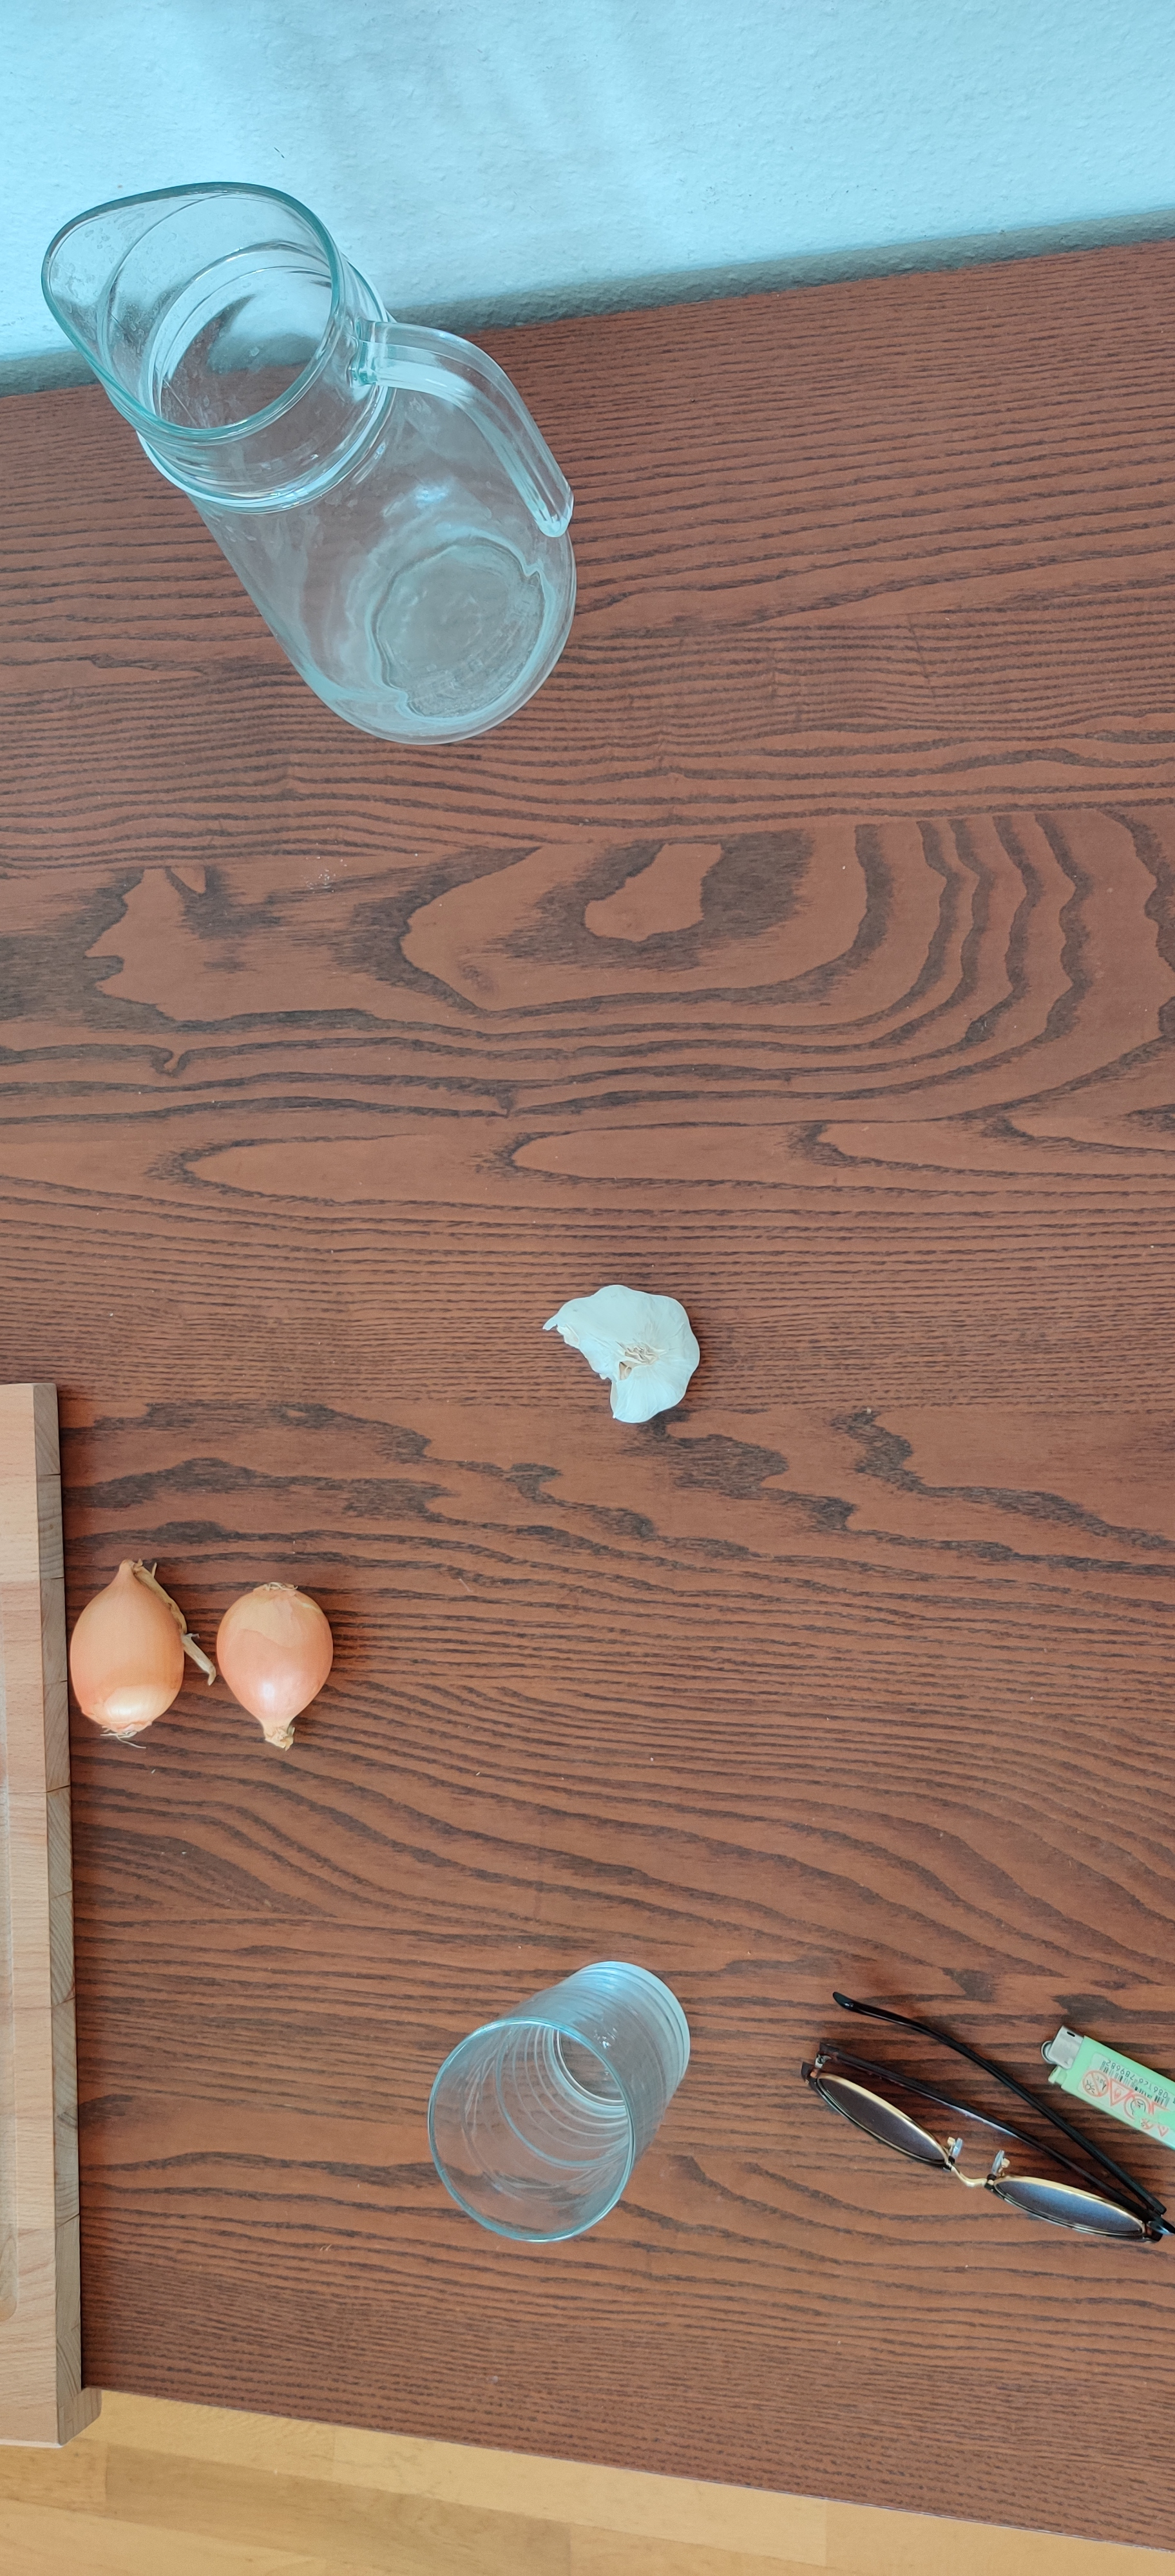Knoblauch: (542, 1283, 700, 1426)
